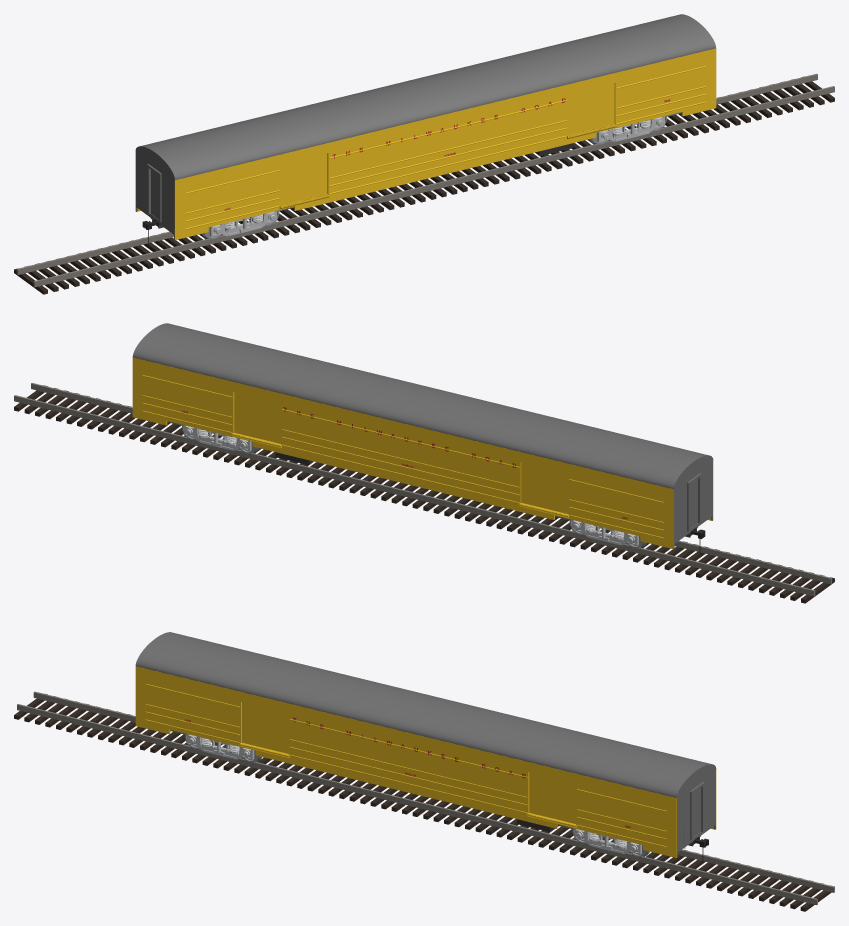
Rendered from MRCE_Storage1943_G.glb.
3 views of the same model, one above another, from view 1: azimuth 30°, elevation 25°; view 2: azimuth 150°, elevation 25°; view 3: azimuth 330°, elevation 25° (orthographic).
Parts seen in each view (by area): view 1: orange, roof, ties, rails, ends, trucks; view 2: orange, roof, ties, rails, ends, trucks; view 3: orange, roof, ties, rails, ends, trucks.
Part boxes in pixels (left/top/right/bottom): orange: left=138, top=48, right=716, bottom=240; roof: left=135, top=14, right=715, bottom=180; ties: left=14, top=76, right=834, bottom=294; rails: left=16, top=73, right=834, bottom=287; ends: left=135, top=152, right=174, bottom=239; trucks: left=209, top=116, right=664, bottom=236; orange: left=132, top=357, right=713, bottom=549; roof: left=132, top=323, right=713, bottom=489; ties: left=14, top=385, right=834, bottom=603; rails: left=14, top=383, right=831, bottom=596; ends: left=674, top=461, right=712, bottom=548; trucks: left=184, top=425, right=638, bottom=545; orange: left=135, top=666, right=716, bottom=857; roof: left=135, top=632, right=716, bottom=797; ties: left=14, top=693, right=834, bottom=911; rails: left=17, top=691, right=834, bottom=904; ends: left=677, top=769, right=715, bottom=857; trucks: left=187, top=734, right=641, bottom=854.
Bounding box in the file's own units: 1.24 × 0.1479 × 0.111.
